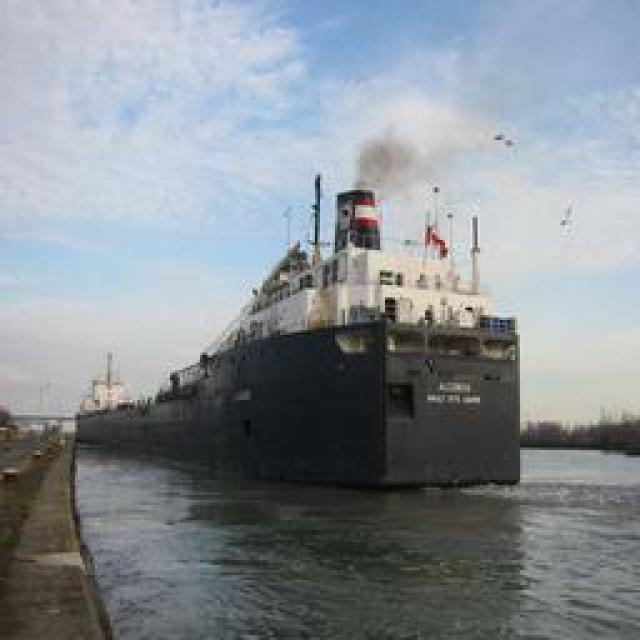Ship: (116, 165, 526, 483)
